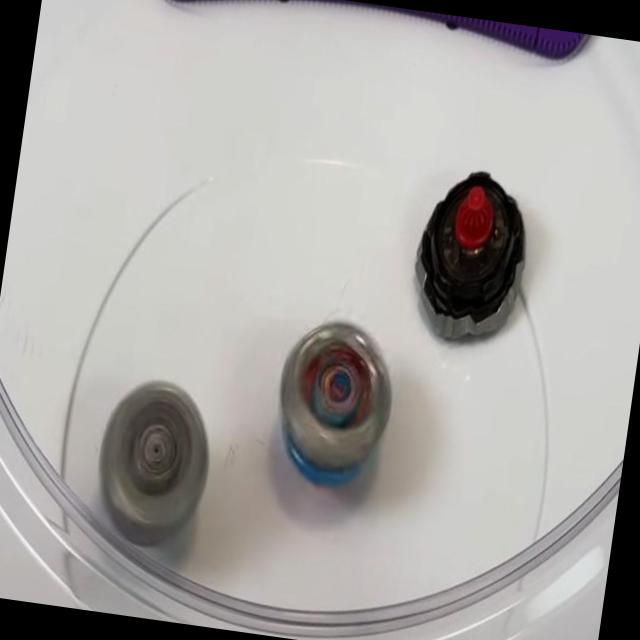Beyblade: (404, 164, 537, 352), (265, 314, 402, 494), (88, 374, 220, 552)
